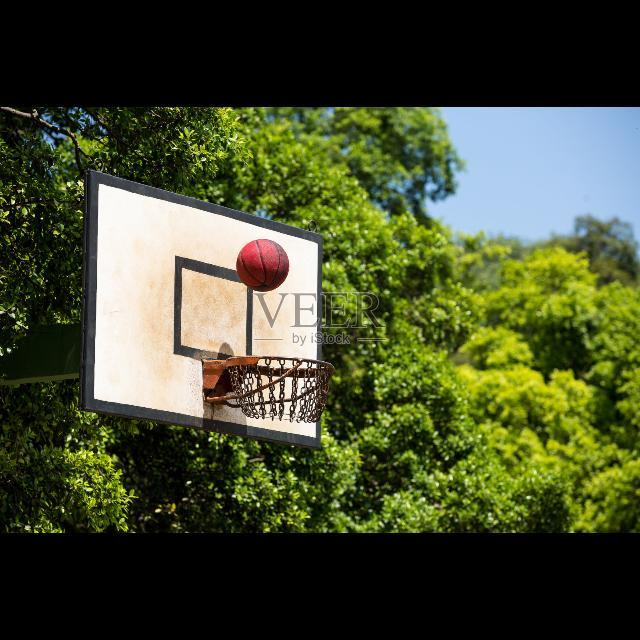basketball: (237, 240, 289, 292)
rim: (230, 356, 336, 422)
